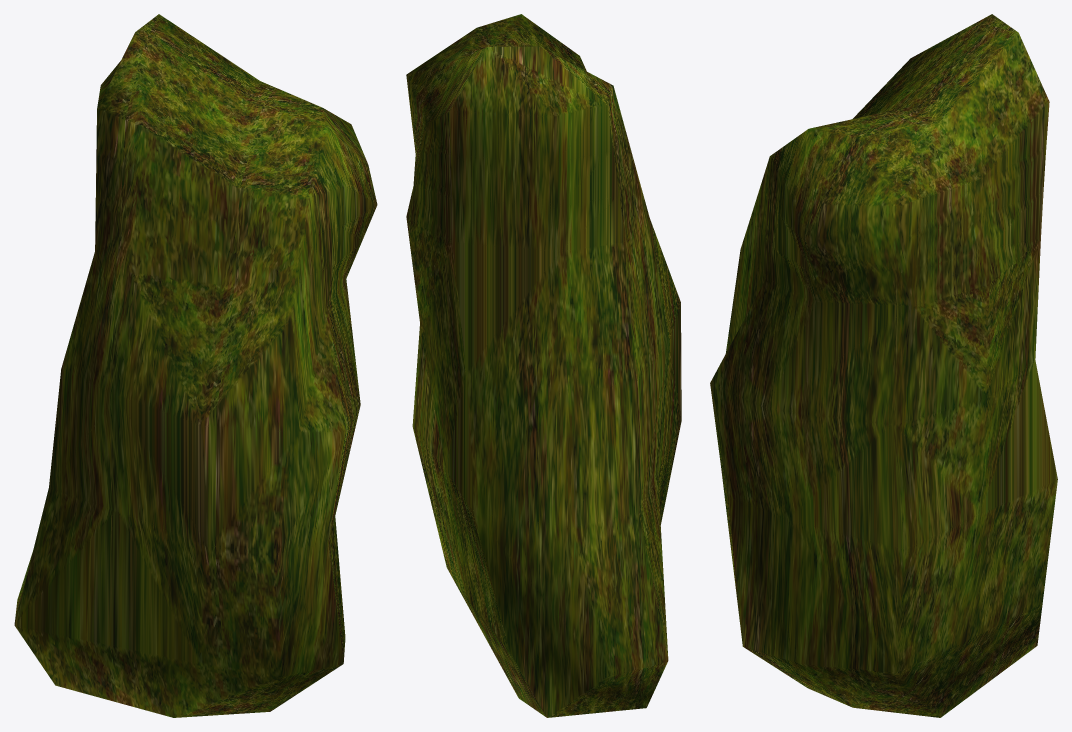
Rendered from TROLLHOLE02_RM_PSURF77.fbx.
3 views of the same model, side by side, from view 1: azimuth 30°, elevation 25°; view 2: azimuth 150°, elevation 25°; view 3: azimuth 270°, elevation 25° (orthographic). The views are drawn at different scales.
Parts seen in each view (by area): view 1: TROLLHOLE02_RM_PSURF77; view 2: TROLLHOLE02_RM_PSURF77; view 3: TROLLHOLE02_RM_PSURF77.
Part boxes in pixels (x1,y1,x2,y2): TROLLHOLE02_RM_PSURF77: [14, 14, 377, 717]; TROLLHOLE02_RM_PSURF77: [406, 14, 681, 717]; TROLLHOLE02_RM_PSURF77: [710, 14, 1057, 717].
Bounding box in the file's own units: 53888 × 114661 × 53037.
Materials: 1 (1 with a texture image).
